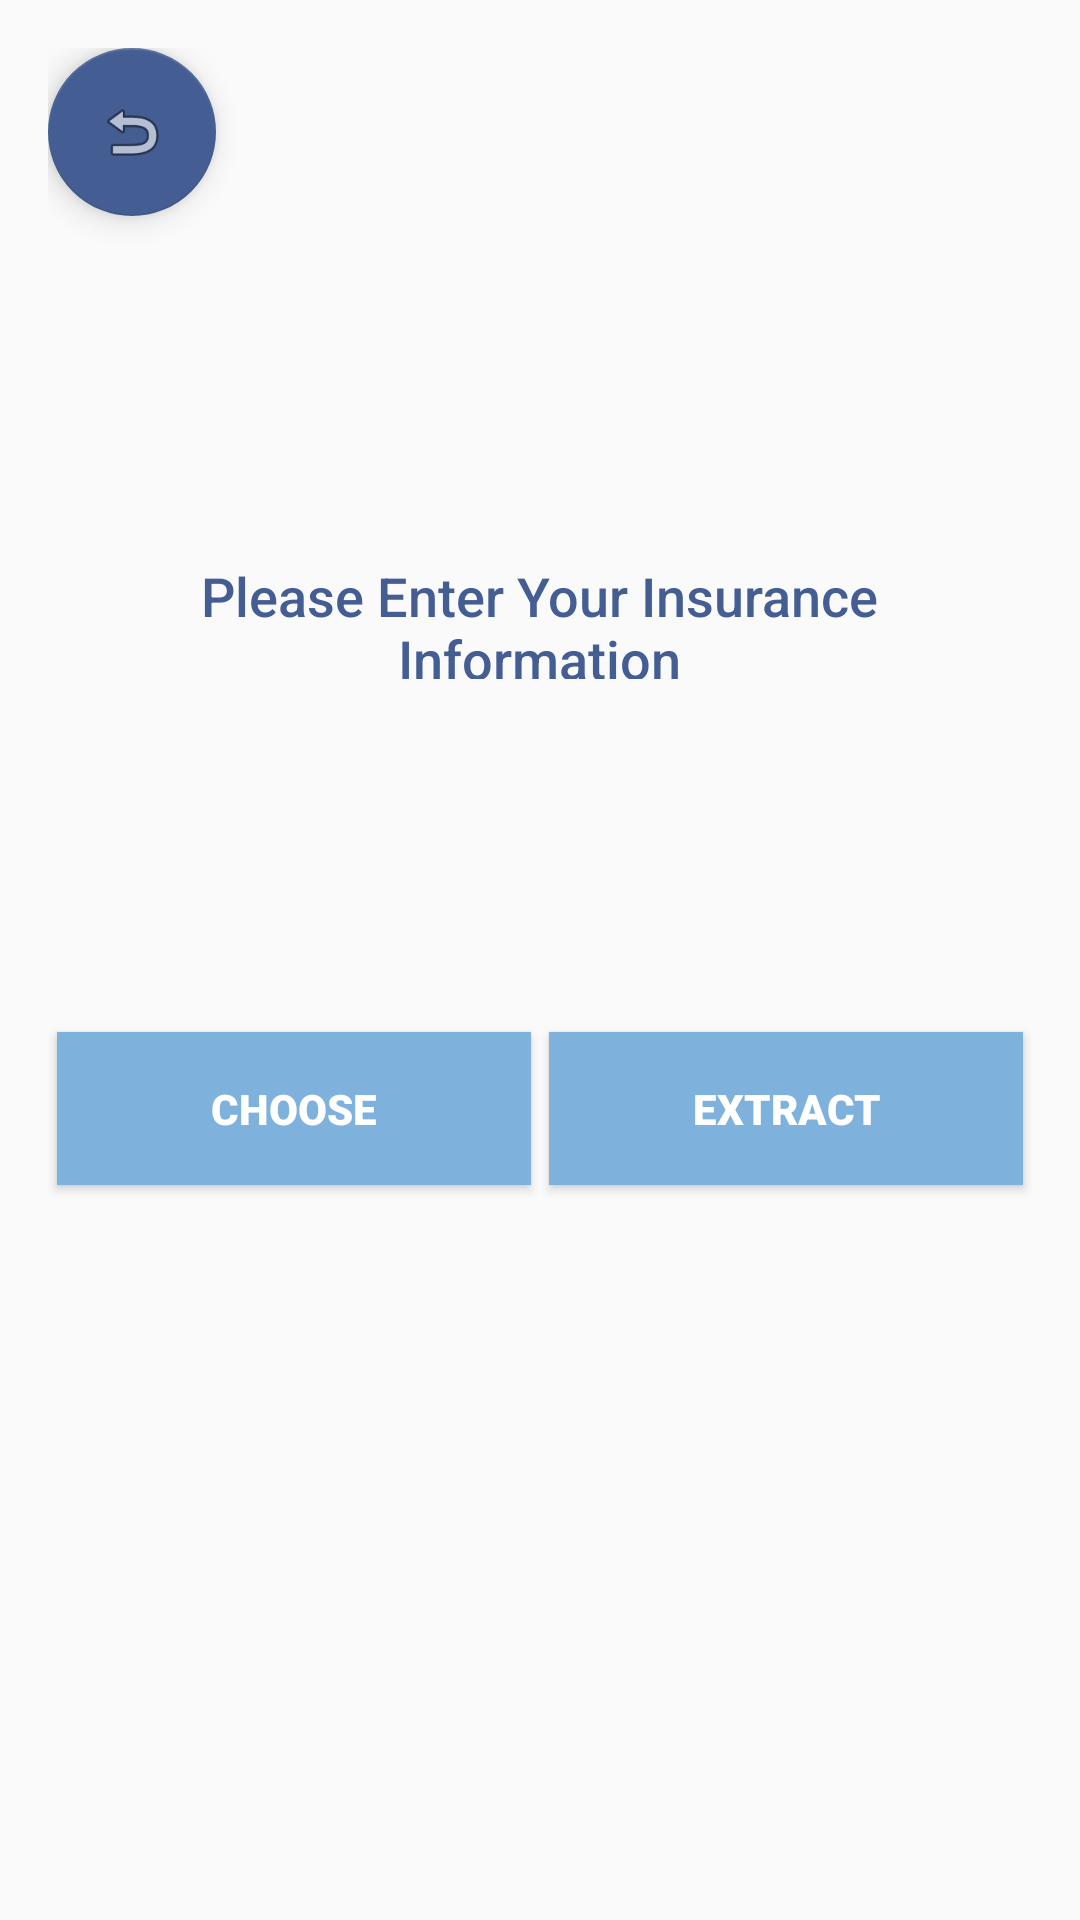

Icons on this 1080w x 1920h Android screen, each with its box as (x1=x1, y1=y1, x2=x2, y2=y2):
revert: (x1=48, y1=48, x2=216, y2=216)
